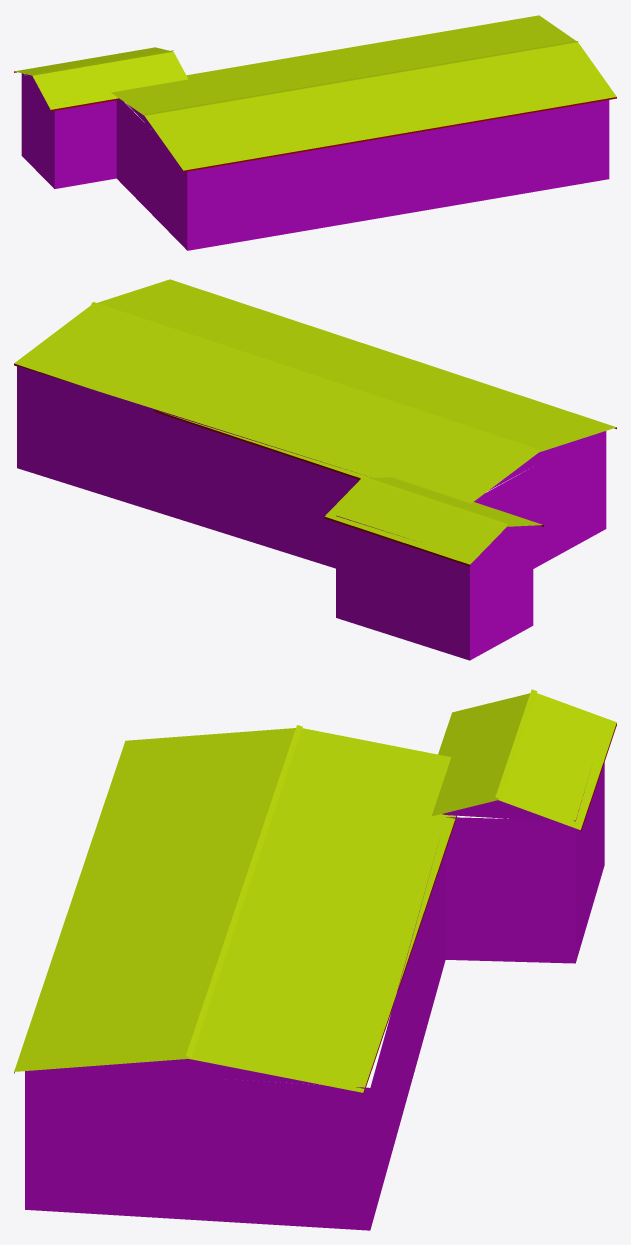
The model's file is niv_81.glb.
3 renders of one model, top to bottom at view 1: azimuth 30°, elevation 25°; view 2: azimuth 150°, elevation 25°; view 3: azimuth 270°, elevation 25°, orthographic. The views are drawn at different scales.
Parts seen in each view (by area): view 1: niv_81; view 2: niv_81; view 3: niv_81.
Part boxes in pixels (x1=…): niv_81: x1=14, y1=15, x2=616, y2=250; niv_81: x1=14, y1=279, x2=616, y2=660; niv_81: x1=14, y1=689, x2=616, y2=1230.
Bounding box in the file's own units: 36.82 × 7.53 × 24.55.
